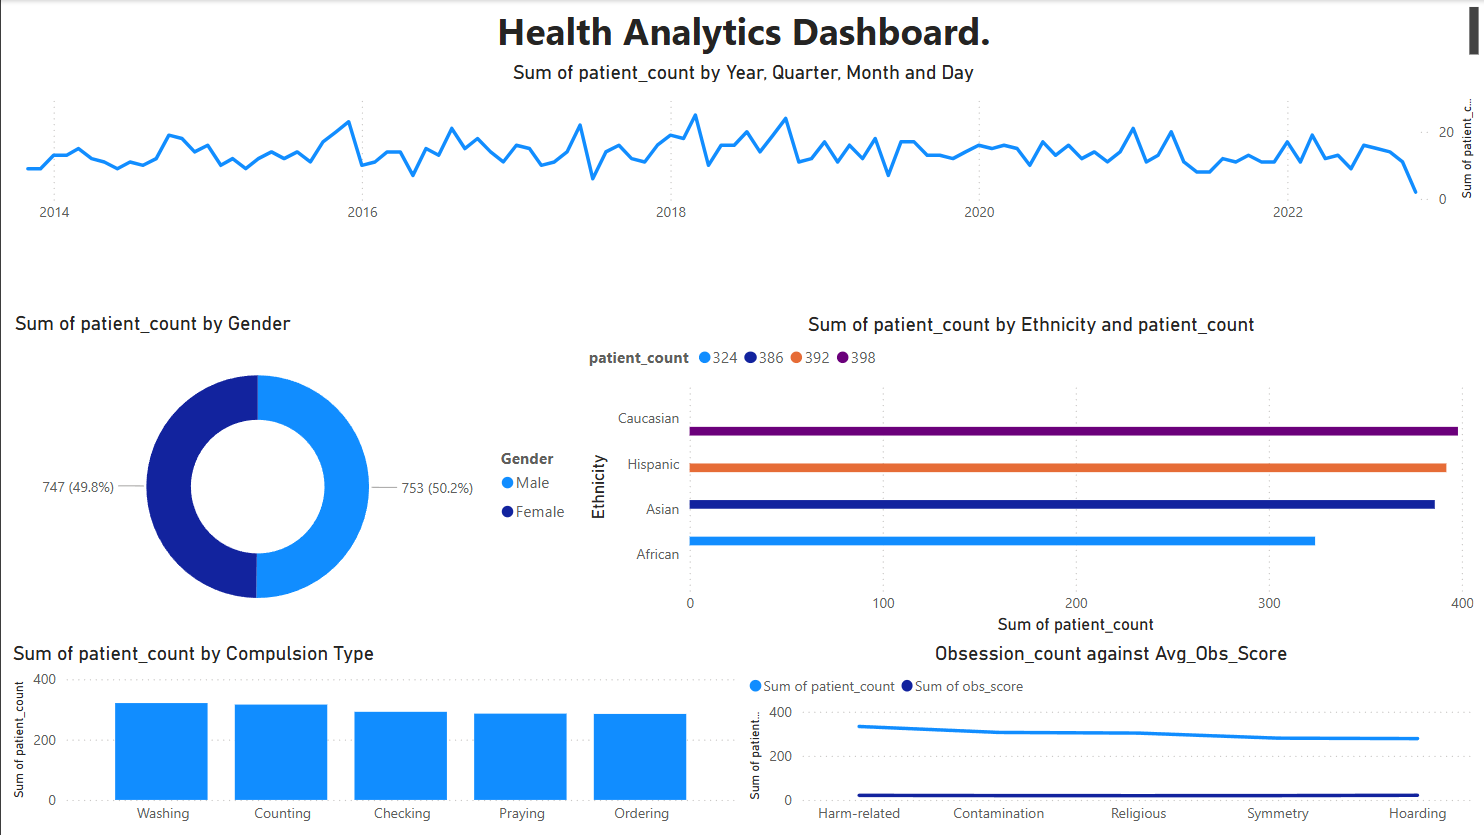

The page's visual inventory and layout, read from the dashboard file:
{"tool":"powerbi","page":{"name":"Page 1","canvas":[1280,720],"ordinal":0},"visuals":[{"type":"textbox","box":[9.7,0,1270.3,51.6],"z":0},{"type":"lineChart","fields":{"Y2":["Sum(Diafnosed wit OCD.patient_count)"],"Category":["Diafnosed wit OCD.month.Variation.Date Hierarchy.Year","Diafnosed wit OCD.month.Variation.Date Hierarchy.Quarter","Diafnosed wit OCD.month.Variation.Date Hierarchy.Month","Diafnosed wit OCD.month.Variation.Date Hierarchy.Day"]},"box":[4.9,51.6,1270.3,149.8],"z":1000},{"type":"donutChart","fields":{"Category":["Gender.Gender"],"Y":["Sum(Gender.patient_count)"]},"box":[6.8,268.4,495.1,284],"z":1001},{"type":"clusteredBarChart","fields":{"Category":["Ethnicity.Ethnicity"],"Y":["Sum(Ethnicity.patient_count)"],"Series":["Ethnicity.patient_count"]},"box":[501.9,269.4,773.3,283],"z":1002},{"type":"columnChart","fields":{"Category":["Comp_type.Compulsion Type"],"Y":["Sum(Comp_type.patient_count)"]},"box":[4.9,552.5,635.1,167.3],"z":1003},{"type":"lineChart","title":"Obsession_count against Avg_Obs_Score ","fields":{"Category":["Obs type.Obsession Type"],"Y":["Sum(Obs type.patient_count)","Sum(Obs type.obs_score)"]},"box":[640,552.5,635.1,167.3],"z":1004}]}

Visuals, with their boxes in screenshot pixels (x1, y1, x2, y2), scaled from the page's 1280x720 canvas onto the 1484x835 screenshot:
textbox: left=11, top=0, right=1483, bottom=60
lineChart - Sum(Diafnosed wit OCD.patient_count) x Diafnosed wit OCD.month.Variation.Date Hierarchy.Year: left=6, top=60, right=1478, bottom=234
donutChart - Gender.Gender x Sum(Gender.patient_count): left=8, top=311, right=582, bottom=641
clusteredBarChart - Ethnicity.Ethnicity x Sum(Ethnicity.patient_count): left=582, top=312, right=1478, bottom=641
columnChart - Comp_type.Compulsion Type x Sum(Comp_type.patient_count): left=6, top=641, right=742, bottom=834
"Obsession_count against Avg_Obs_Score " lineChart: left=742, top=641, right=1478, bottom=834
